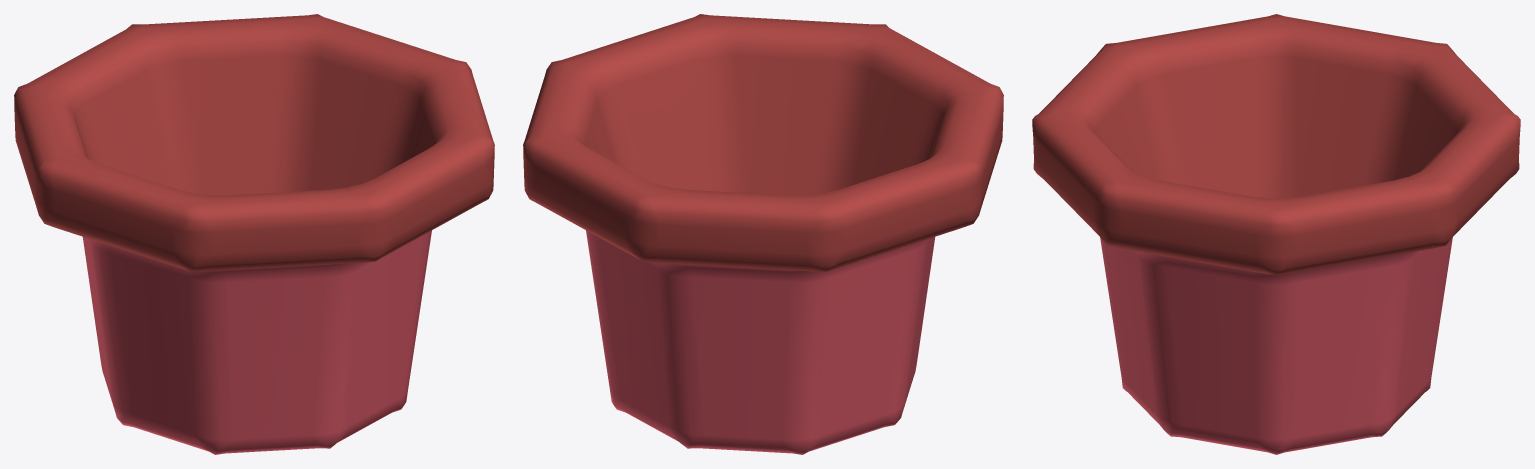
File: Topf.fbx
The picture shows the model from 3 angles, left to right: view 1: azimuth 30°, elevation 25°; view 2: azimuth 150°, elevation 25°; view 3: azimuth 270°, elevation 25°; orthographic projection.
Parts seen in each view (by area): view 1: Topf; view 2: Topf; view 3: Topf.
Part boxes in pixels (<box>): Topf: <box>14,14,494,454</box>; Topf: <box>523,14,1003,454</box>; Topf: <box>1032,14,1520,454</box>.
Bounding box in the file's own units: 22.3 × 14.06 × 22.3.
